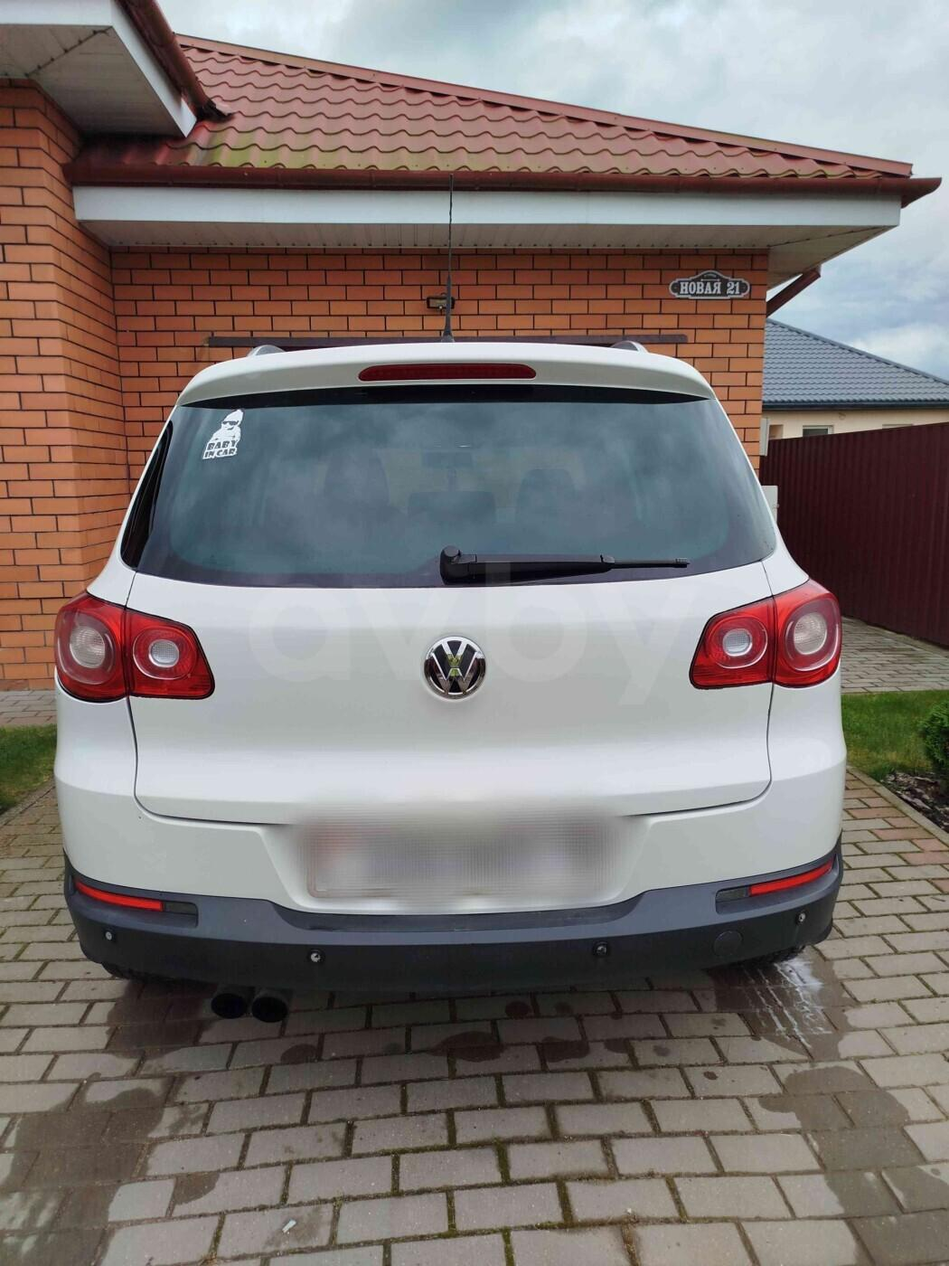Tiguan_2007-2011: (47, 329, 851, 1000)
